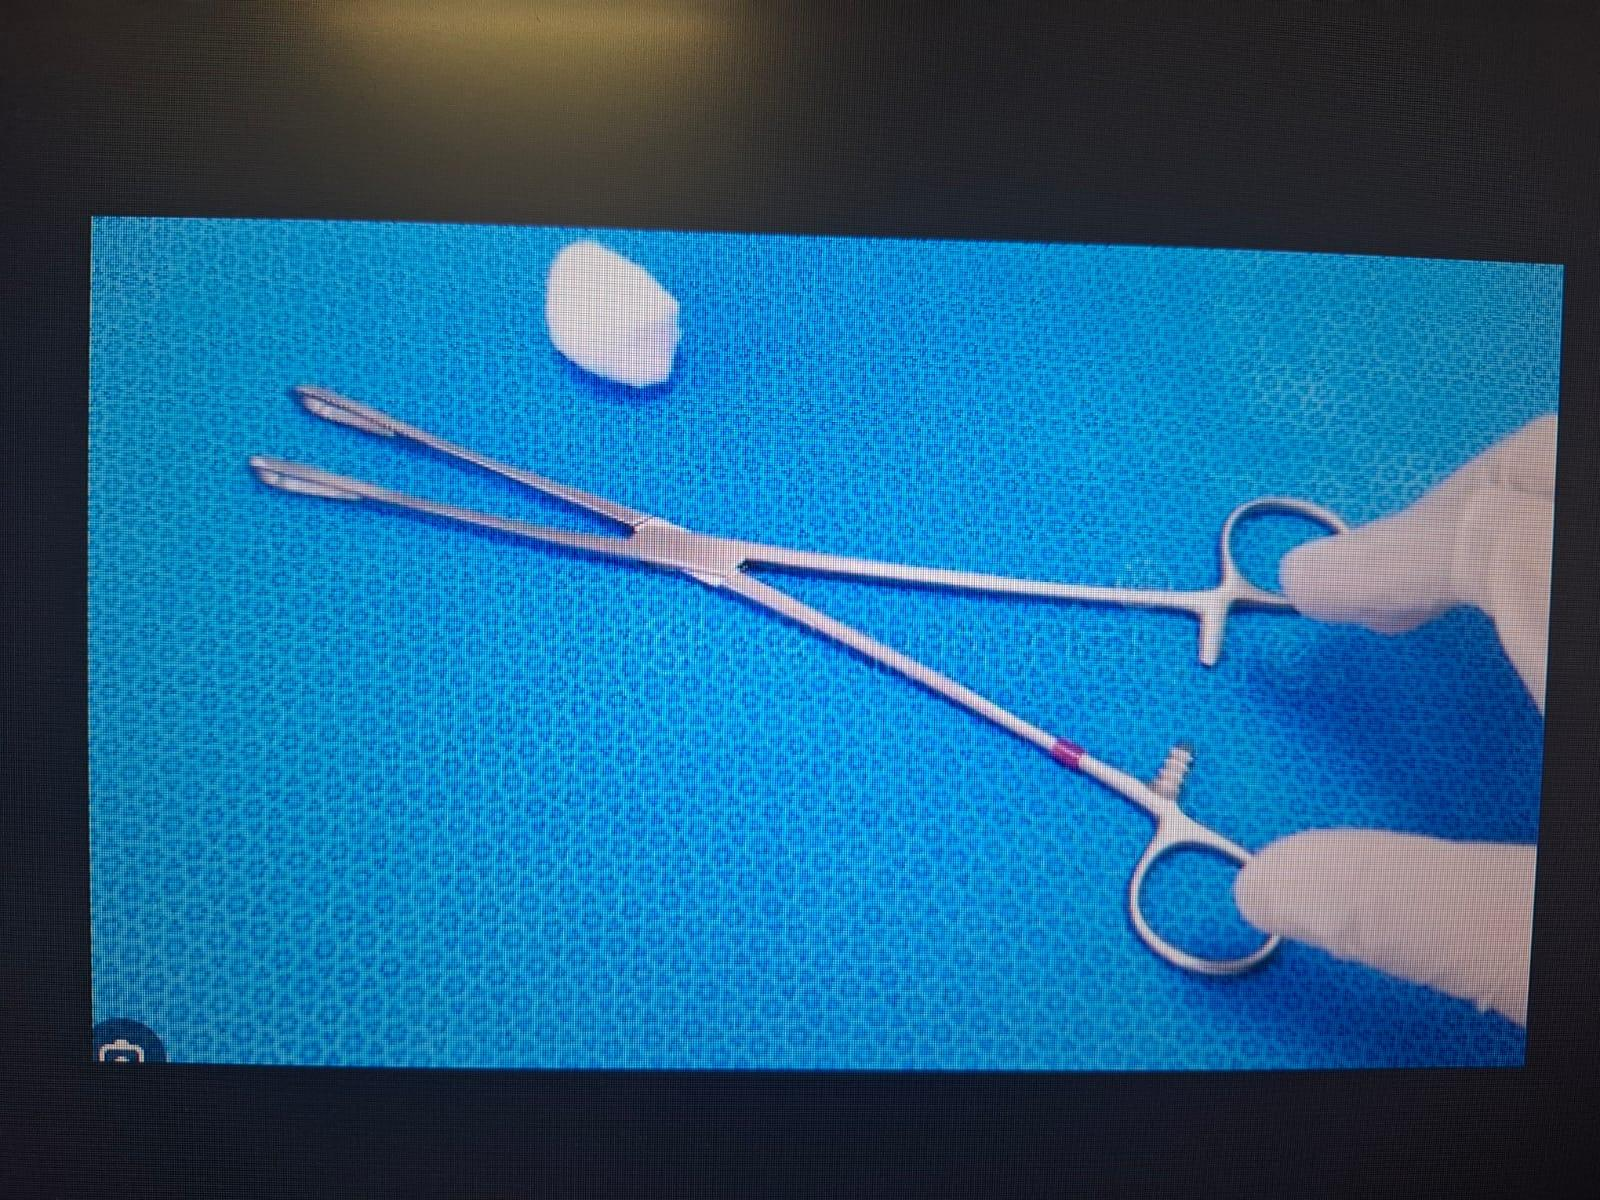Sponge Holding Forceps: (246, 372, 1376, 989)
